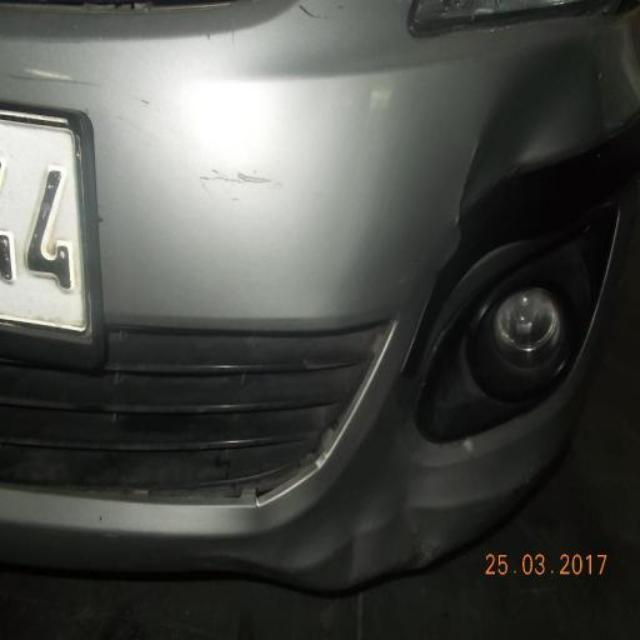dent: (284, 406, 467, 589)
scratch: (7, 64, 169, 122), (107, 110, 190, 173), (197, 167, 283, 200), (293, 3, 324, 30)
